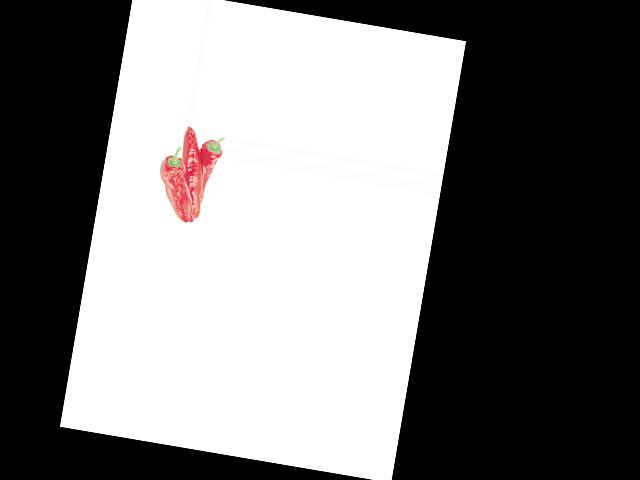bell_pepper: (150, 141, 196, 223)
